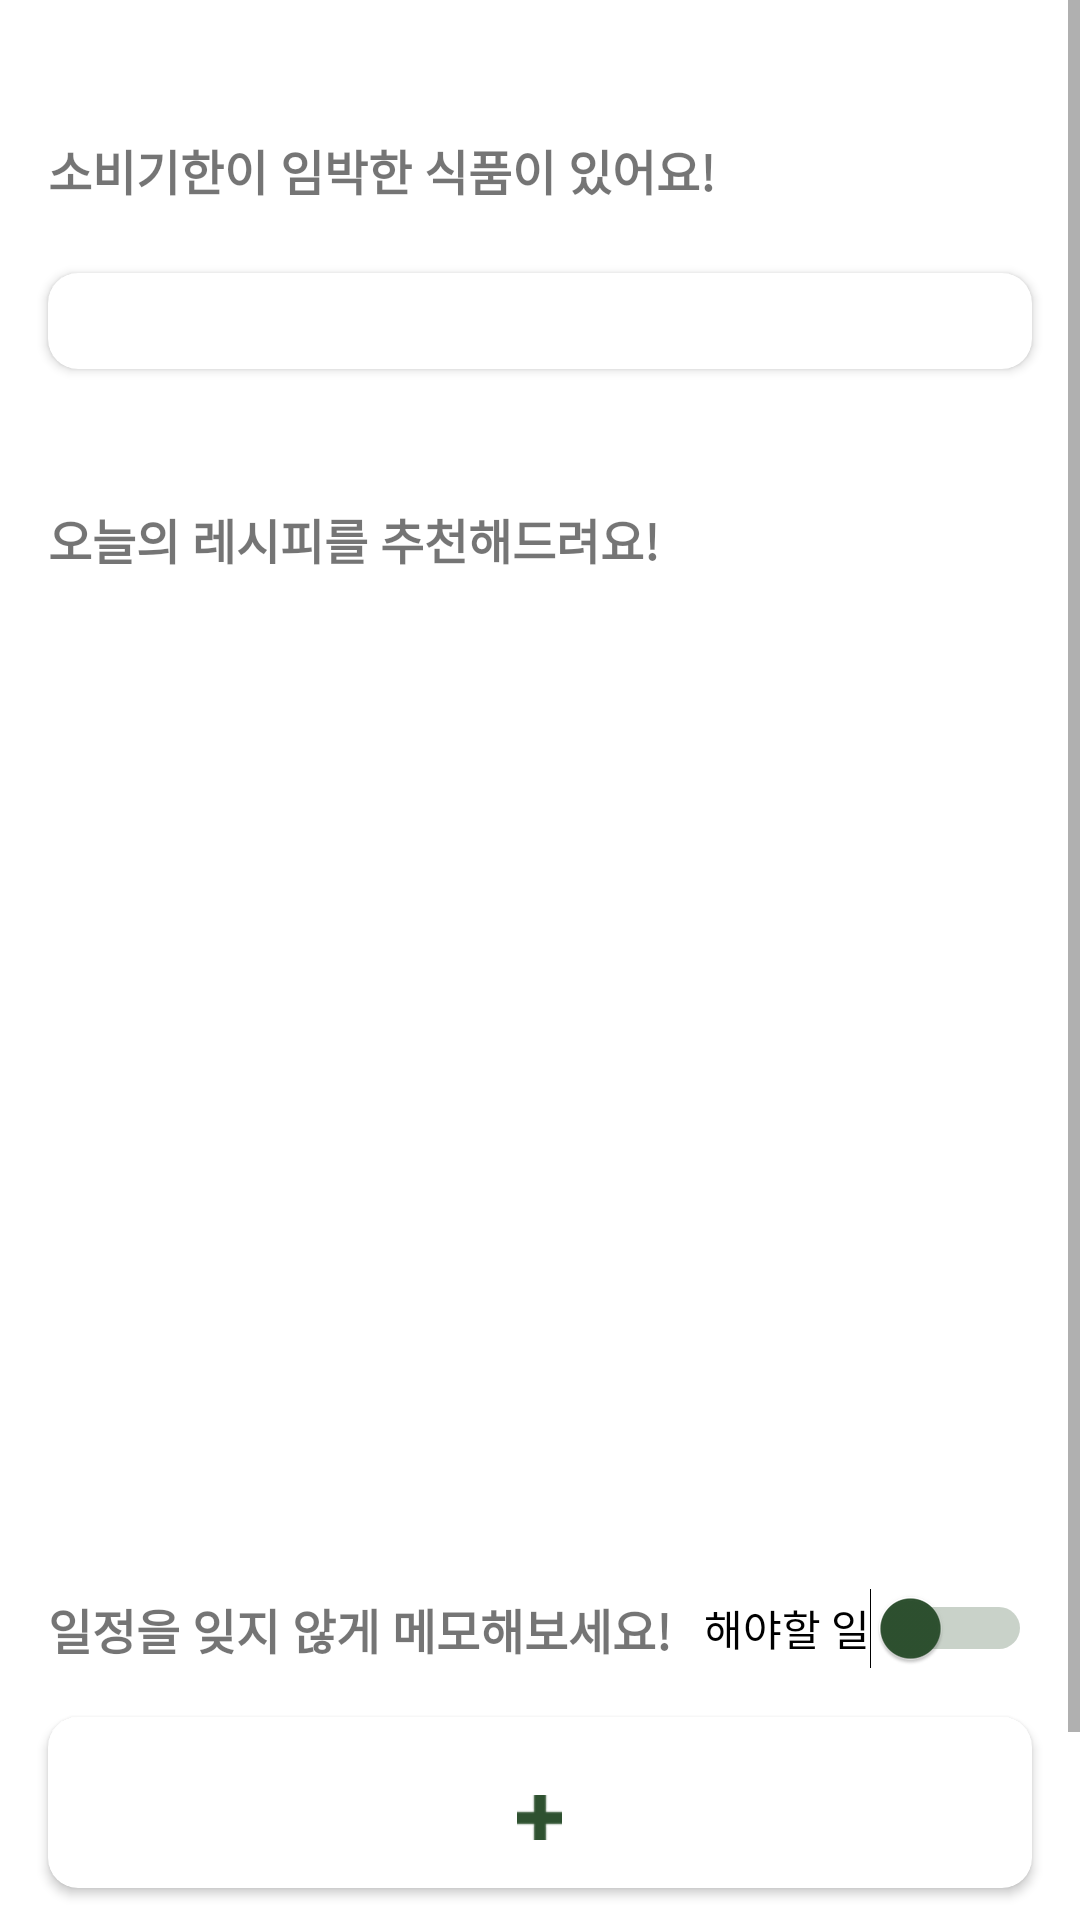

Point at icon controls on the screen. Image size 1080 x 1920, points as point (x, y).
메모 추가: point (539, 1817)
